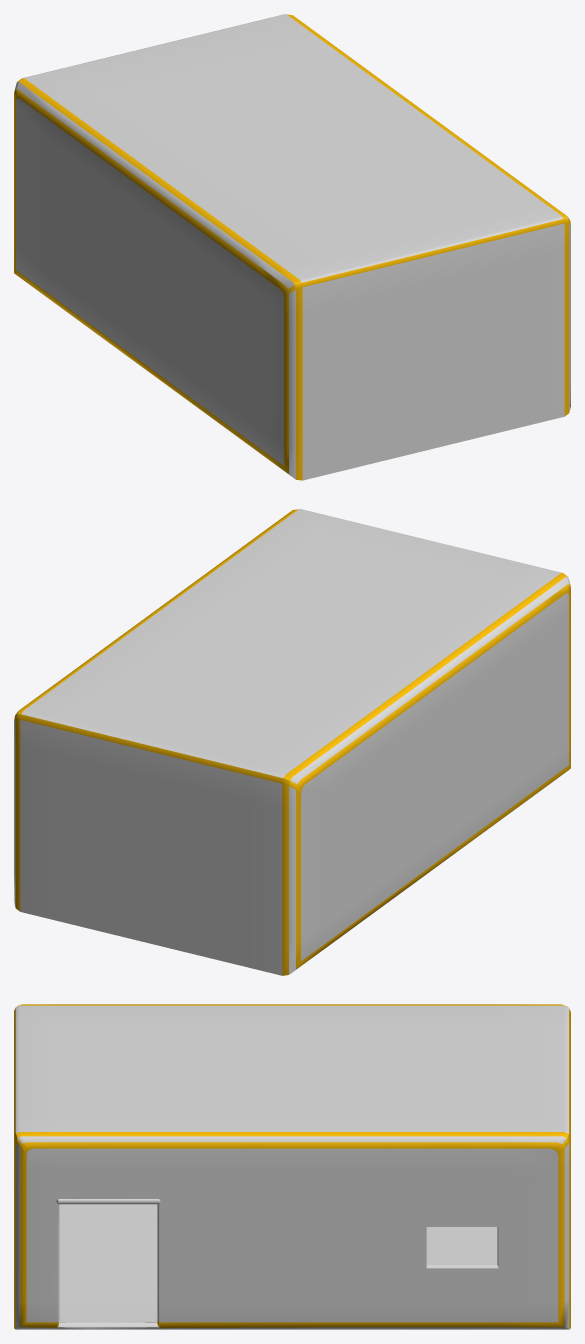
Rendered from smallHouseB.fbx.
3 views of the same model, one above another, from view 1: azimuth 30°, elevation 25°; view 2: azimuth 150°, elevation 25°; view 3: azimuth 270°, elevation 25° (orthographic).
Visible parts, largest first — view 1: pCube7; view 2: pCube7; view 3: pCube7.
Boxes of the visible parts, box(x1,y1,x2,y2) form: pCube7: box(14, 14, 570, 480); pCube7: box(14, 509, 570, 975); pCube7: box(14, 1004, 570, 1329).
Size of the model in its own units: 151 by 100 by 257.
2 materials, 1 textured.
